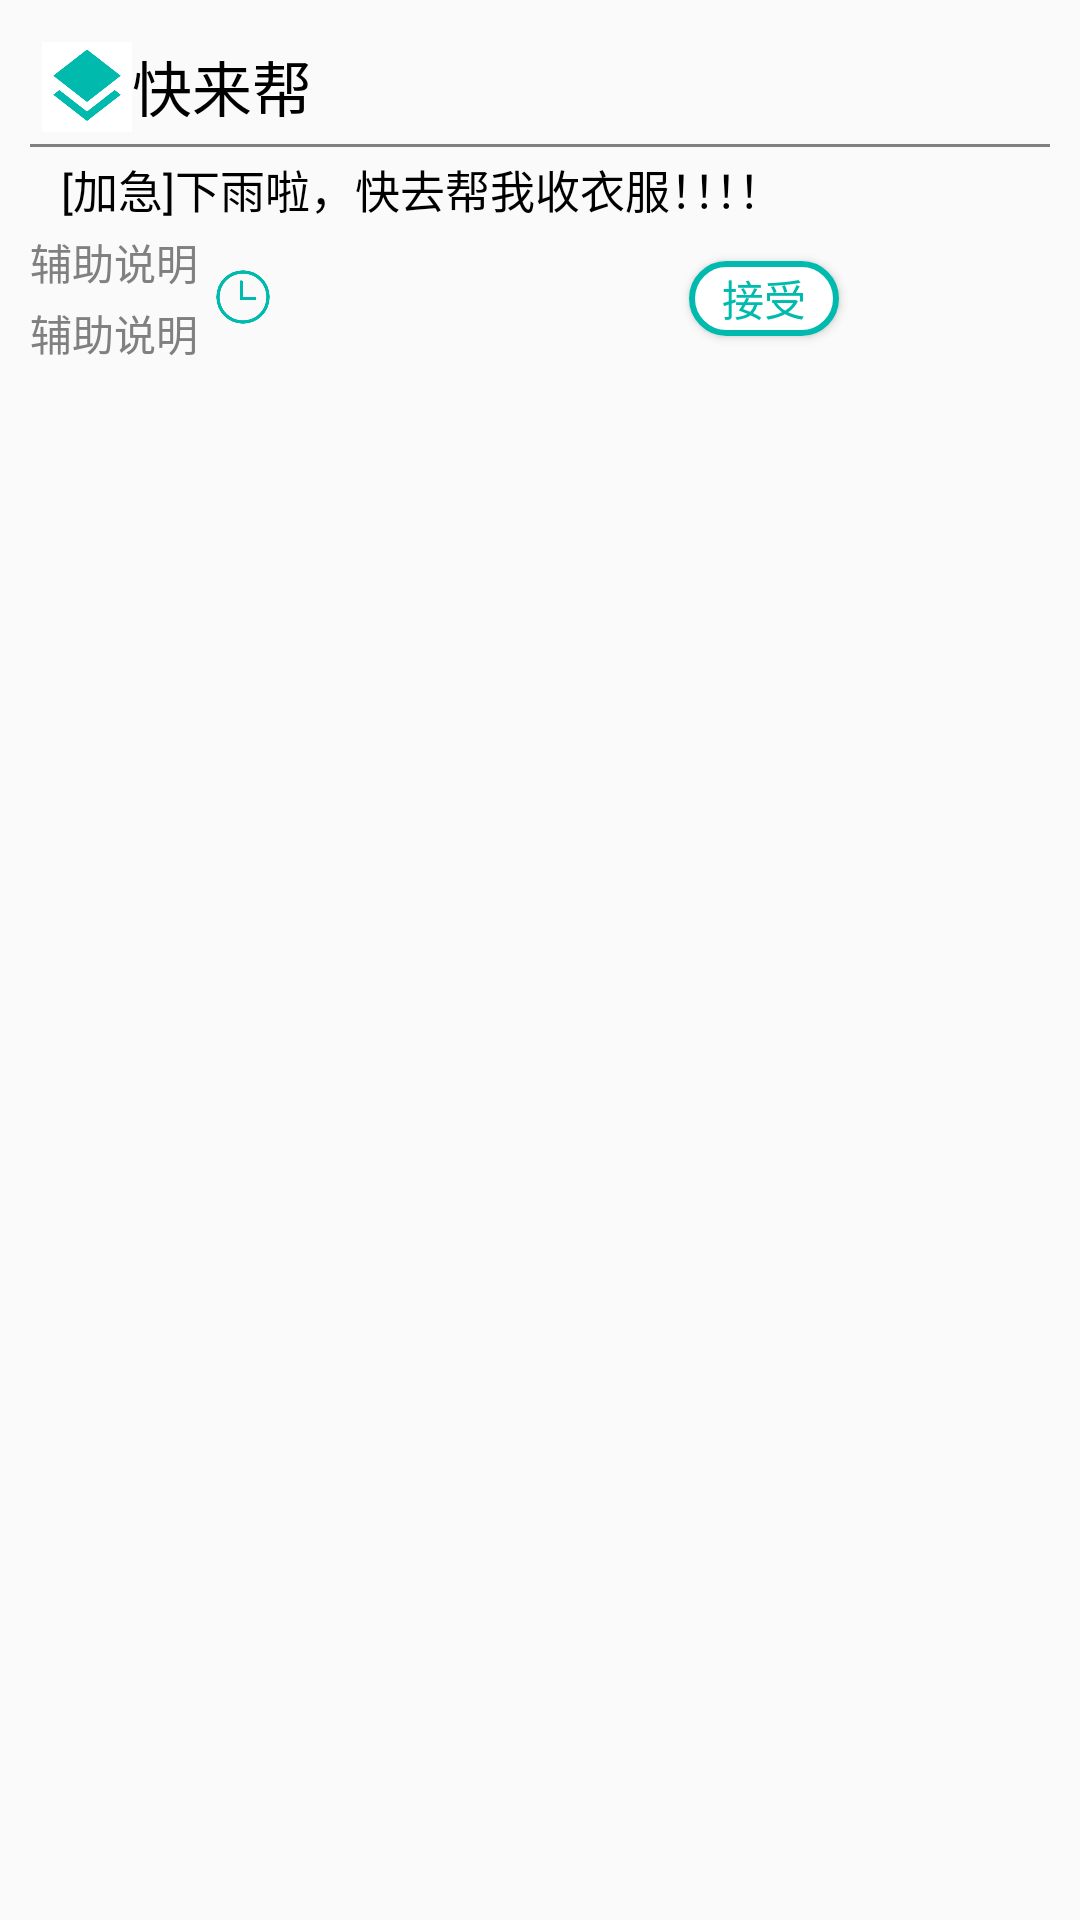

Icons on this 1080px x 1920px Android screen, each with its box as (x1, y1, x2, y2):
clock: (216, 270, 270, 324)
